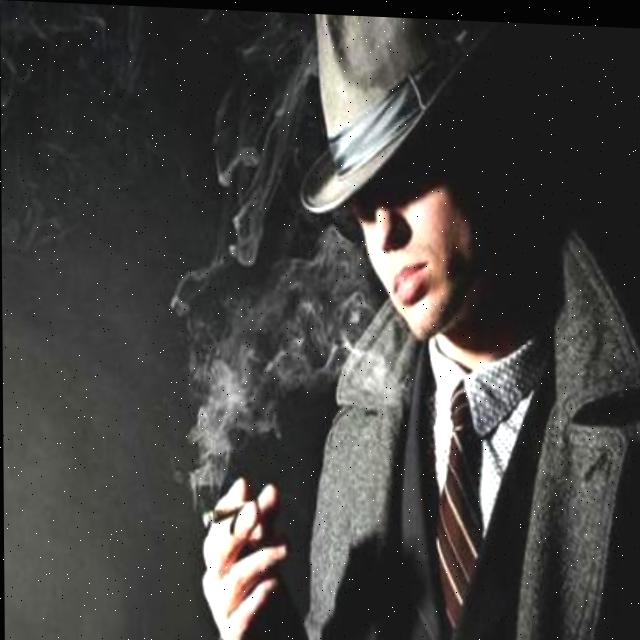cigarette: (201, 499, 245, 528)
